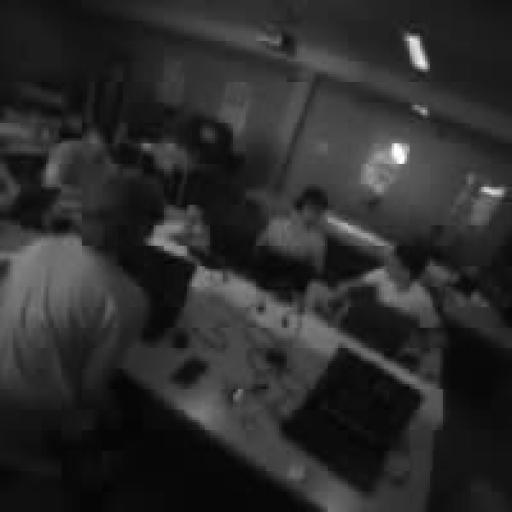human: (0, 175, 163, 458), (327, 240, 446, 330), (256, 187, 327, 273), (43, 124, 126, 188)
